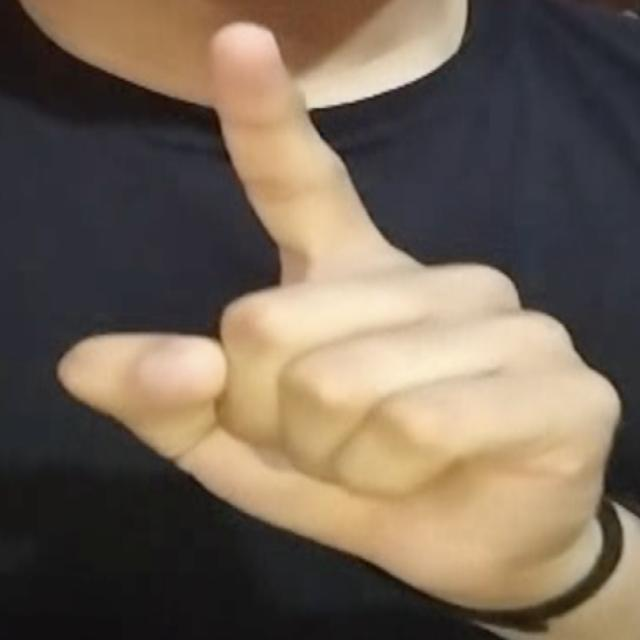Z: (53, 16, 625, 580)
